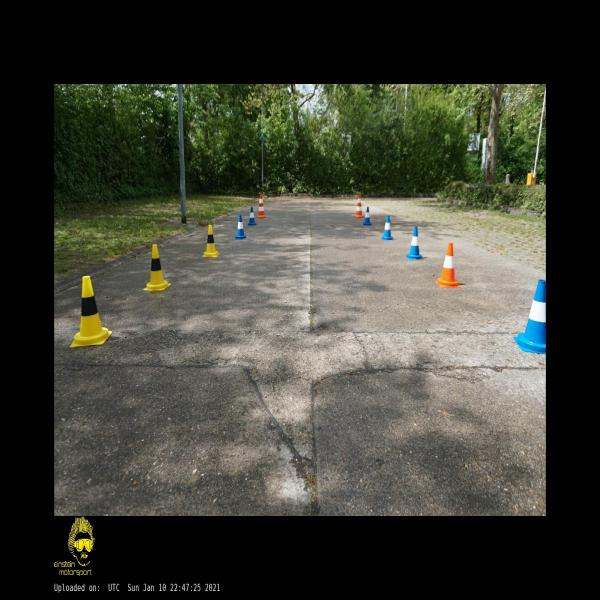blue_cone: (514, 280, 545, 354), (406, 226, 424, 260), (381, 215, 393, 240), (235, 215, 246, 239), (247, 207, 257, 226), (363, 206, 372, 225)
large_orange_cone: (256, 193, 266, 218), (354, 193, 364, 218)
orange_cone: (436, 242, 461, 288)
yellow_cone: (70, 276, 112, 347), (143, 245, 171, 290), (203, 224, 220, 257)
